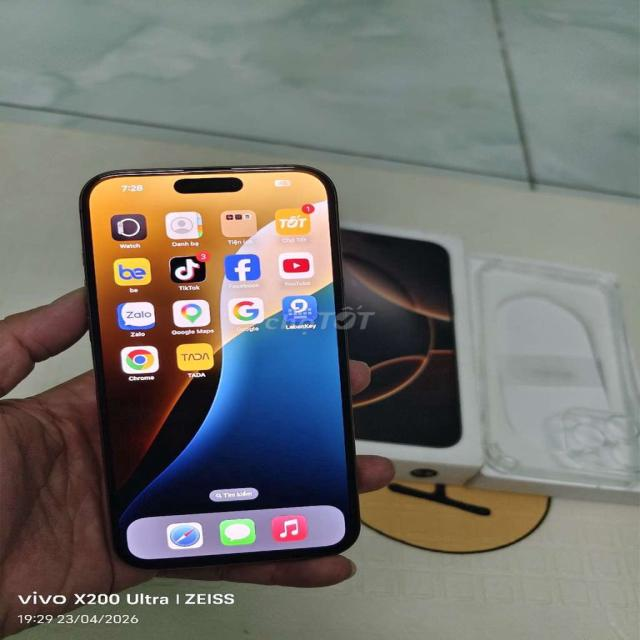gen_16: (81, 166, 359, 569)
